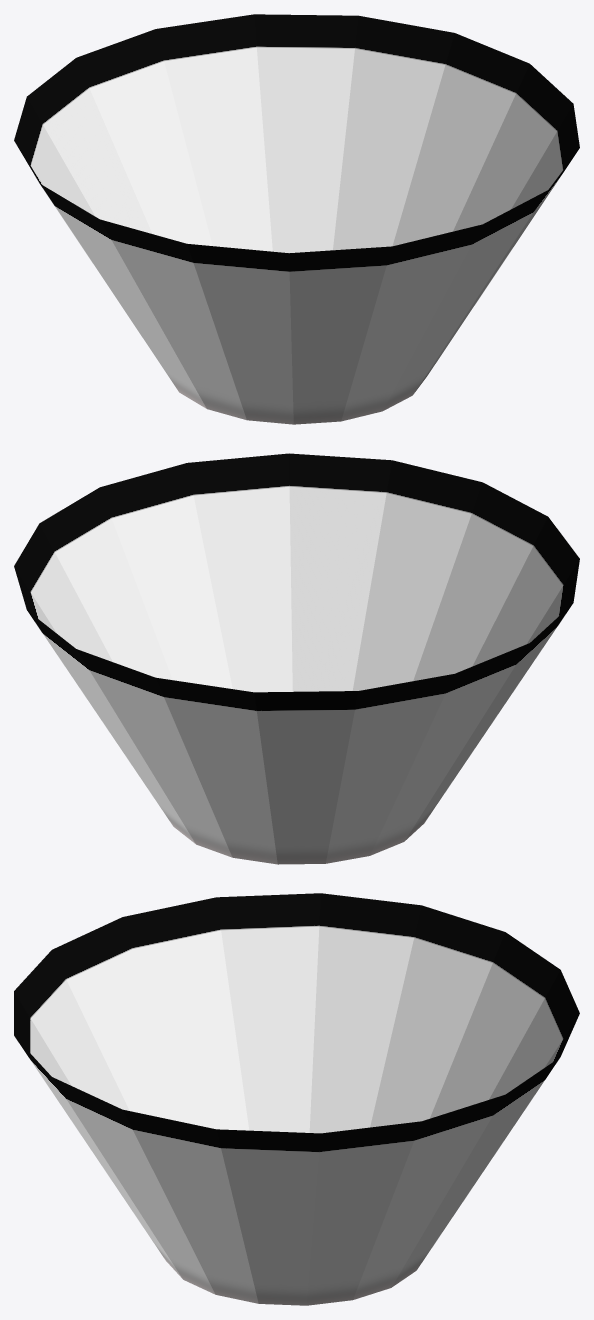
The model's file is lightbeam.fbx.
3 renders of one model, top to bottom at view 1: azimuth 30°, elevation 25°; view 2: azimuth 150°, elevation 25°; view 3: azimuth 270°, elevation 25°, orthographic.
Parts seen in each view (by area): view 1: Cylinder; view 2: Cylinder; view 3: Cylinder.
Part boxes in pixels (<box>): Cylinder: <box>14,14,579,424</box>; Cylinder: <box>14,453,579,864</box>; Cylinder: <box>14,893,579,1305</box>.
Bounding box in the file's own units: 434 × 200 × 432.
Materials: 1 (1 with a texture image).
